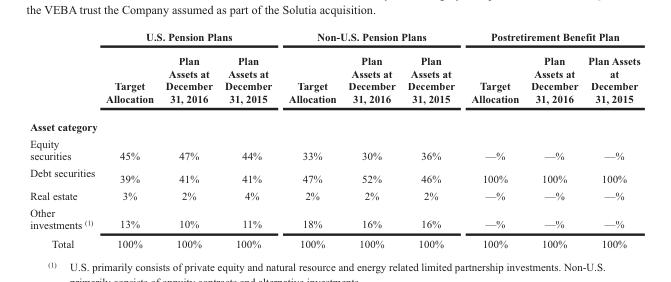table: (29, 28, 639, 250)
table column: (29, 28, 99, 250), (279, 28, 341, 250), (400, 28, 462, 250), (462, 28, 524, 250), (218, 28, 279, 250), (158, 28, 218, 250), (99, 28, 158, 250), (341, 28, 400, 250), (524, 28, 582, 250), (582, 28, 639, 250)
table column header: (29, 28, 639, 111)
table projected row header: (29, 111, 639, 134)
table row: (29, 48, 639, 111), (29, 203, 639, 233), (29, 134, 639, 163), (29, 111, 639, 134), (29, 163, 639, 186), (29, 28, 639, 48), (29, 186, 639, 203), (29, 233, 639, 250)
table spanning cell: (279, 28, 462, 48), (99, 28, 279, 48), (462, 28, 639, 48)
